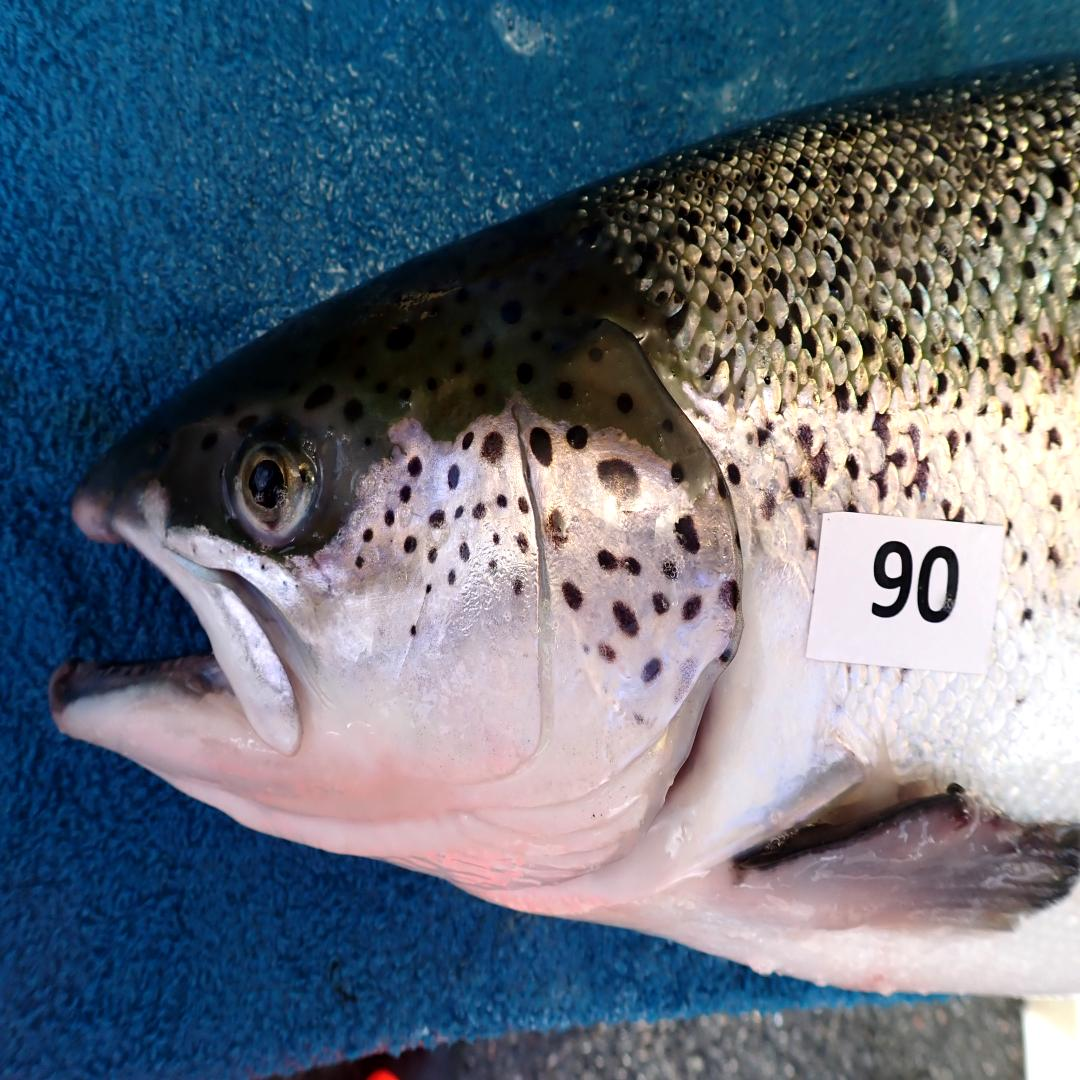roi: (304, 405, 741, 901)
